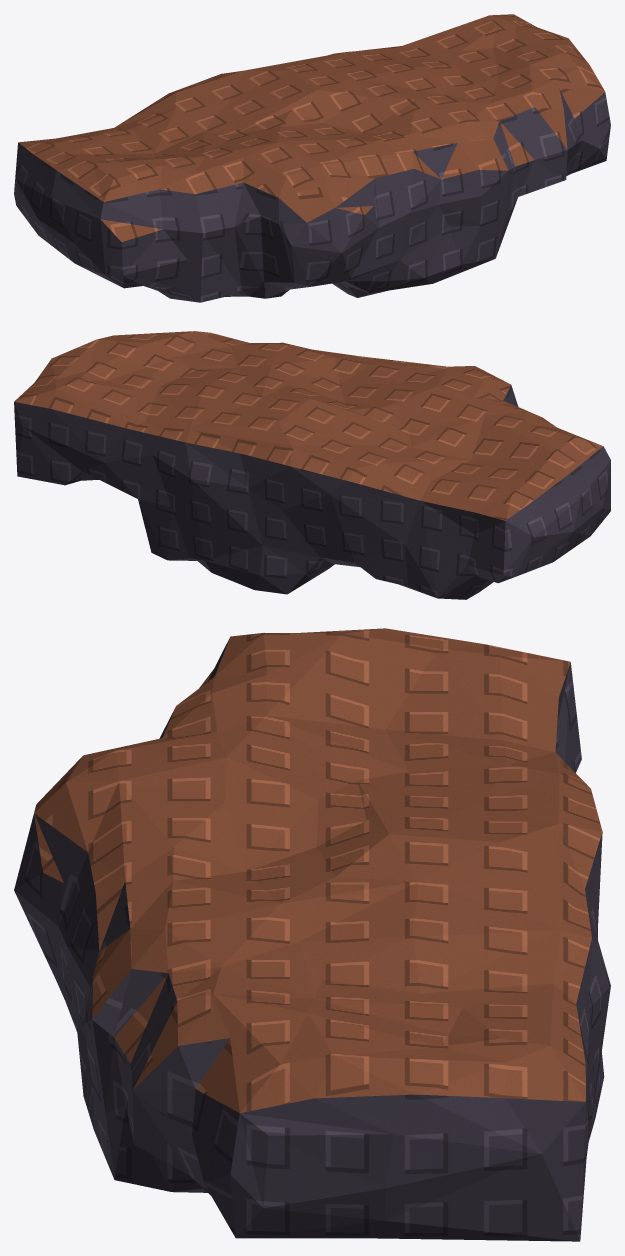
File: BasaltOverhang.glb
3 views of the same model, one above another, from view 1: azimuth 30°, elevation 25°; view 2: azimuth 150°, elevation 25°; view 3: azimuth 270°, elevation 25° (orthographic). The views are drawn at different scales.
Parts seen in each view (by area): view 1: BasaltOverhang_Top, BasaltOverhang_Rock; view 2: BasaltOverhang_Top, BasaltOverhang_Rock; view 3: BasaltOverhang_Top, BasaltOverhang_Rock.
Boxes of the visible parts, x1,y1,x2,y2 form: BasaltOverhang_Top: (18,14,604,242); BasaltOverhang_Rock: (14,88,610,302); BasaltOverhang_Top: (14,331,603,520); BasaltOverhang_Rock: (14,385,610,599); BasaltOverhang_Top: (34,628,602,1112); BasaltOverhang_Rock: (14,639,610,1241).
Size of the model in its own units: 14.32 by 4.16 by 7.54.
Materials: 2 (2 with a texture image).
